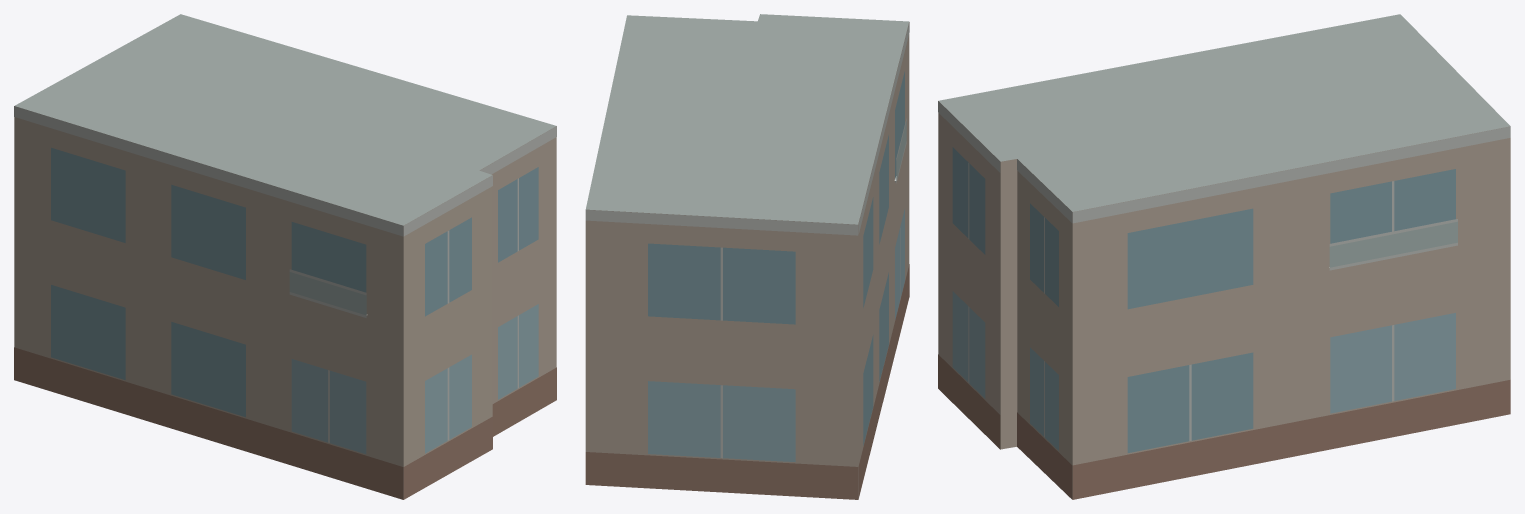
Rendered from survey-upis-32771563.glb.
3 renders of one model, left to right at view 1: azimuth 30°, elevation 25°; view 2: azimuth 150°, elevation 25°; view 3: azimuth 270°, elevation 25°, orthographic. The views are drawn at different scales.
Visible parts, largest first — view 1: survey-upis-32771563.tmp; view 2: survey-upis-32771563.tmp; view 3: survey-upis-32771563.tmp.
Boxes of the visible parts, x1,y1,x2,y2 form: survey-upis-32771563.tmp: [14, 14, 556, 499]; survey-upis-32771563.tmp: [585, 14, 909, 499]; survey-upis-32771563.tmp: [938, 14, 1510, 499].
Bounding box in the file's own units: 9.01 × 6.1 × 11.01.
